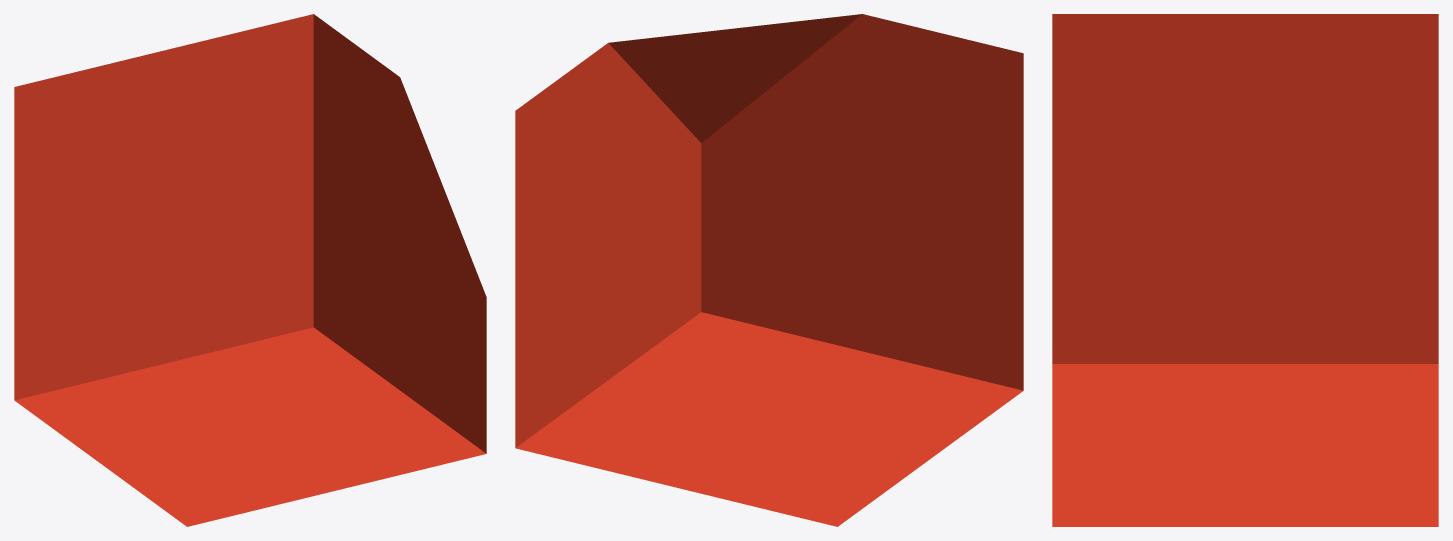
Rendered from r6c6_border_red.gltf.
The picture shows the model from 3 angles, left to right: view 1: azimuth 30°, elevation 25°; view 2: azimuth 150°, elevation 25°; view 3: azimuth 270°, elevation 25°; orthographic projection. The views are drawn at different scales.
Visible parts, largest first — view 1: r6c6_border_red; view 2: r6c6_border_red; view 3: r6c6_border_red.
Part boxes in pixels (<box>): r6c6_border_red: <box>14,14,486,526</box>; r6c6_border_red: <box>515,14,1023,526</box>; r6c6_border_red: <box>1052,14,1438,526</box>.
Size of the model in its own units: 2.1 by 2.1 by 2.1.
Materials: 1 (1 with a texture image).
